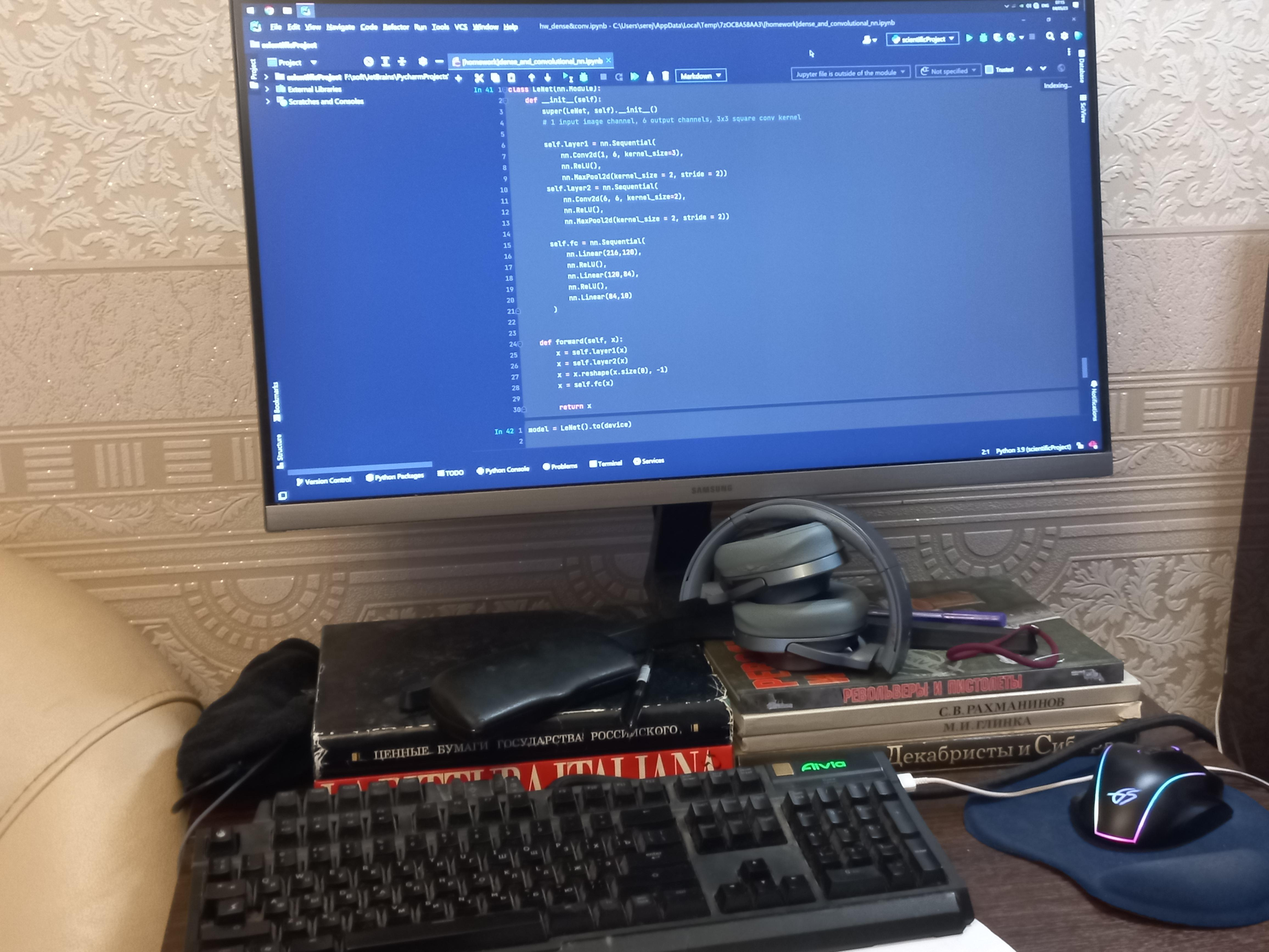monitor: (228, 0, 1120, 537)
